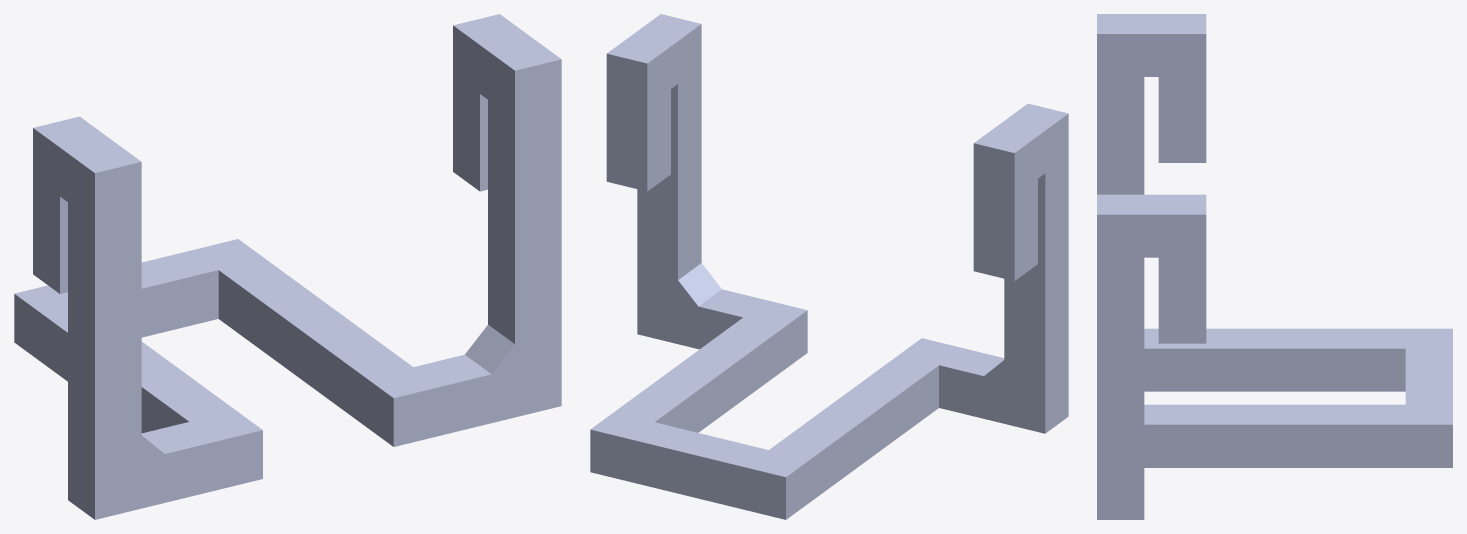
File: glass-holder.glb
3 renders of one model, left to right at view 1: azimuth 30°, elevation 25°; view 2: azimuth 150°, elevation 25°; view 3: azimuth 270°, elevation 25°, orthographic. The views are drawn at different scales.
Parts seen in each view (by area): view 1: empty_2; view 2: empty_2; view 3: empty_2.
Boxes of the visible parts, x1,y1,x2,y2 form: empty_2: (14,14,561,519); empty_2: (590,14,1068,519); empty_2: (1097,14,1452,519).
Bounding box in the file's own units: 100 × 71 × 75.
